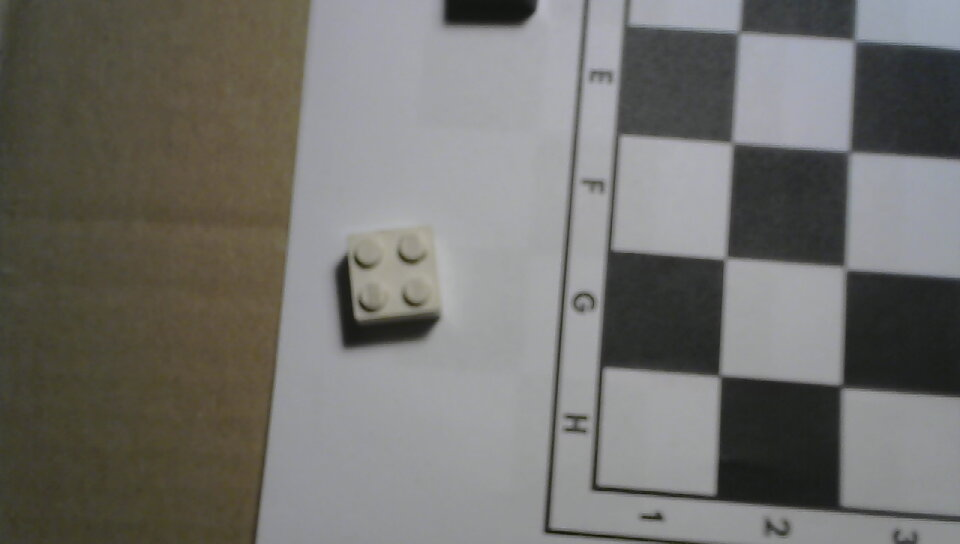wp: (331, 212, 451, 338)
